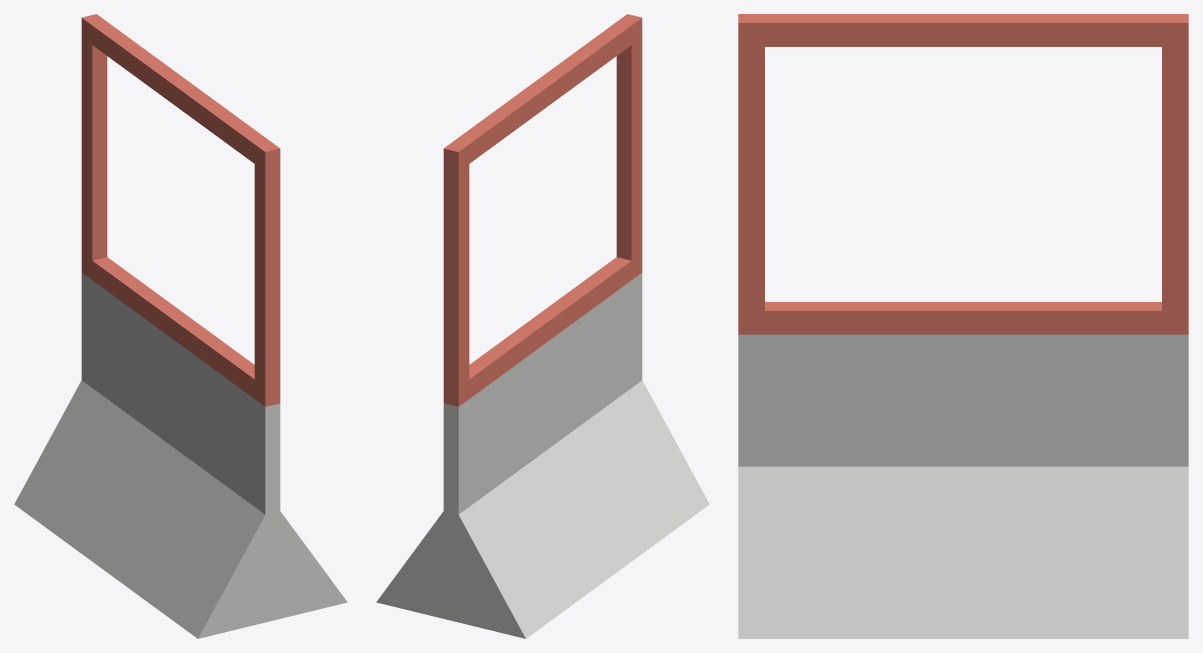
Rendered from jendela1_1m.dae.
The picture shows the model from 3 angles, left to right: view 1: azimuth 30°, elevation 25°; view 2: azimuth 150°, elevation 25°; view 3: azimuth 270°, elevation 25°; orthographic projection. The views are drawn at different scales.
Visible parts, largest first — view 1: Body1.001, Body1; view 2: Body1.001, Body1; view 3: Body1.001, Body1.
Boxes of the visible parts, x1,y1,x2,y2 form: Body1.001: [14, 273, 347, 638]; Body1: [81, 14, 280, 406]; Body1.001: [376, 273, 709, 638]; Body1: [443, 14, 642, 406]; Body1.001: [738, 334, 1188, 638]; Body1: [738, 14, 1188, 334].
Bounding box in the file's own units: 0.8 × 1.7 × 2.4.
